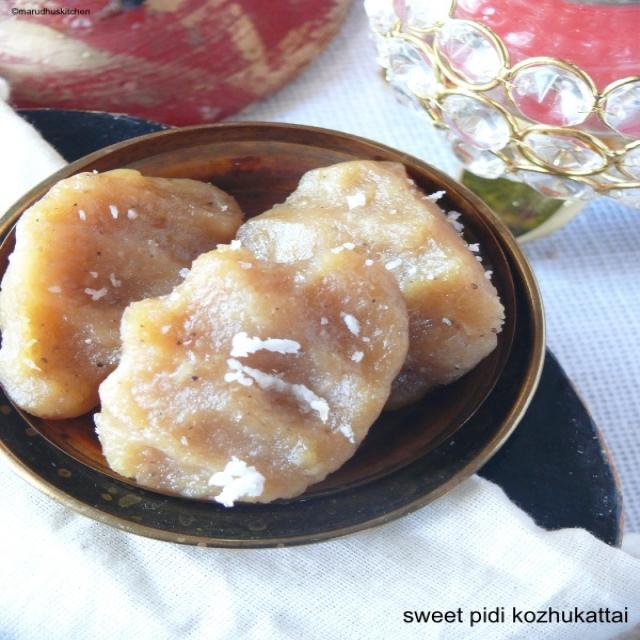pidi kolukattai: (11, 127, 492, 547)
